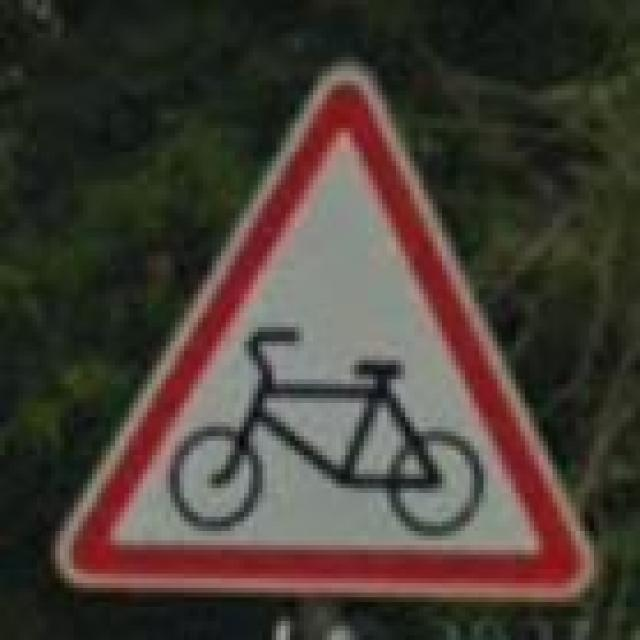bicycle: (51, 57, 598, 607)
